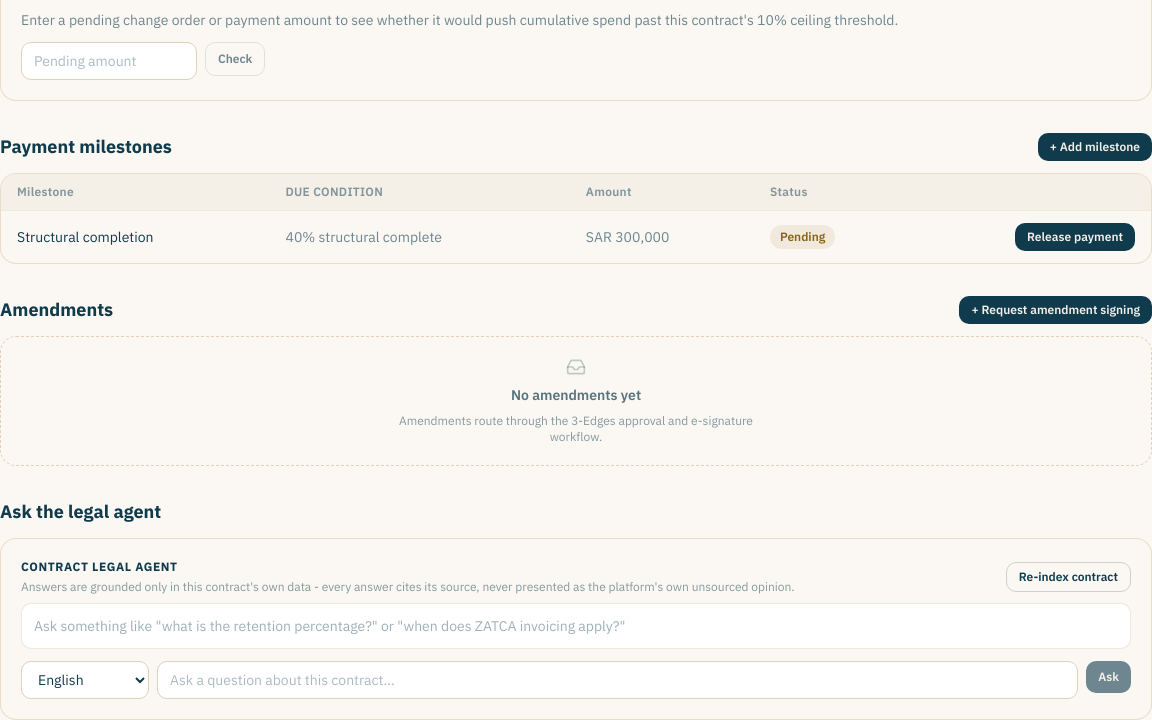
Test: ContractPaymentsPage › asks the legal agent and renders a sourced answer
(page scrolled)
Type "What is the retention percentage?" into the field with placeholder "Ask a question about this contract…".
click(618, 680); type("What is the retention percentage?")  # box left=157, top=661, right=1078, bottom=699
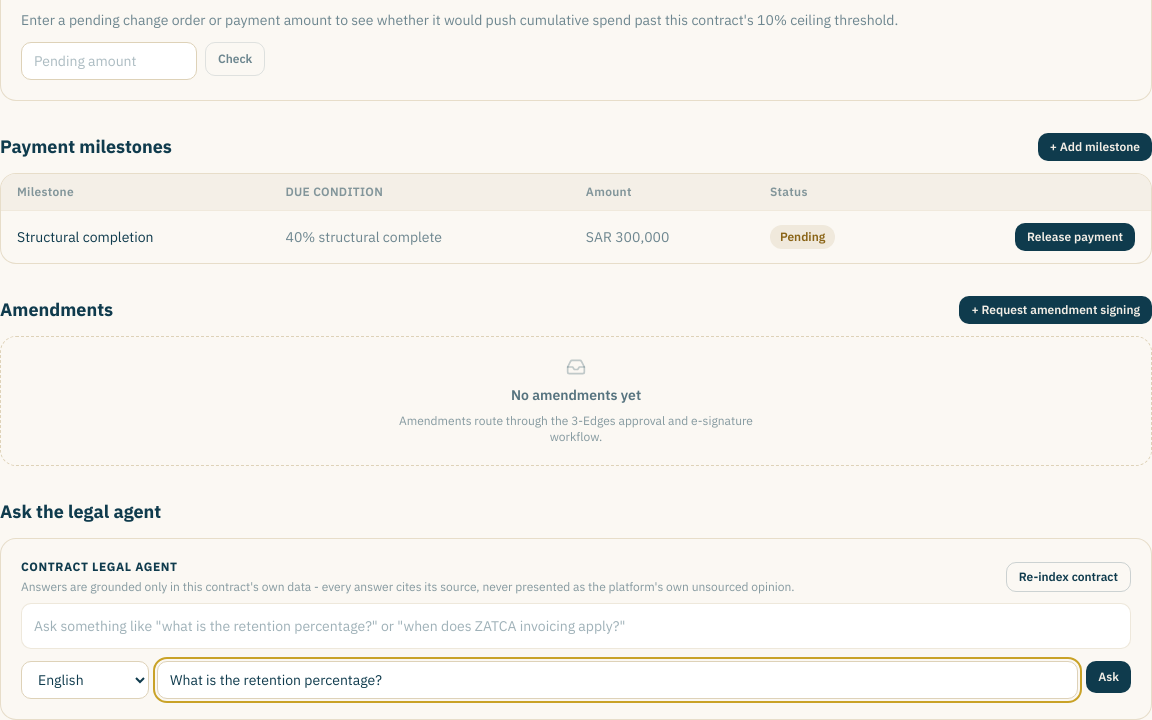
Click the button "Ask".
click(1109, 677)  # box left=1086, top=661, right=1131, bottom=693
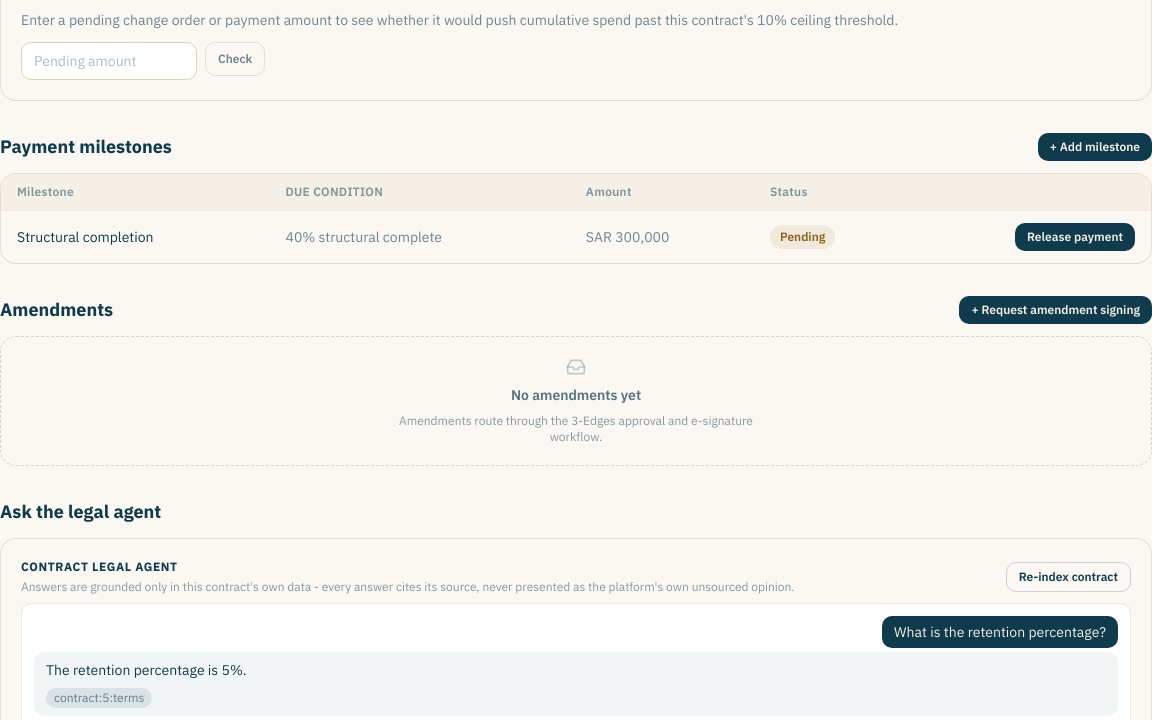
Expected: the text "The retention percentage is 5%." is shown, left=46, top=661, right=247, bottom=679
Expected: the text "contract:5:terms" is shown, left=46, top=688, right=152, bottom=708
